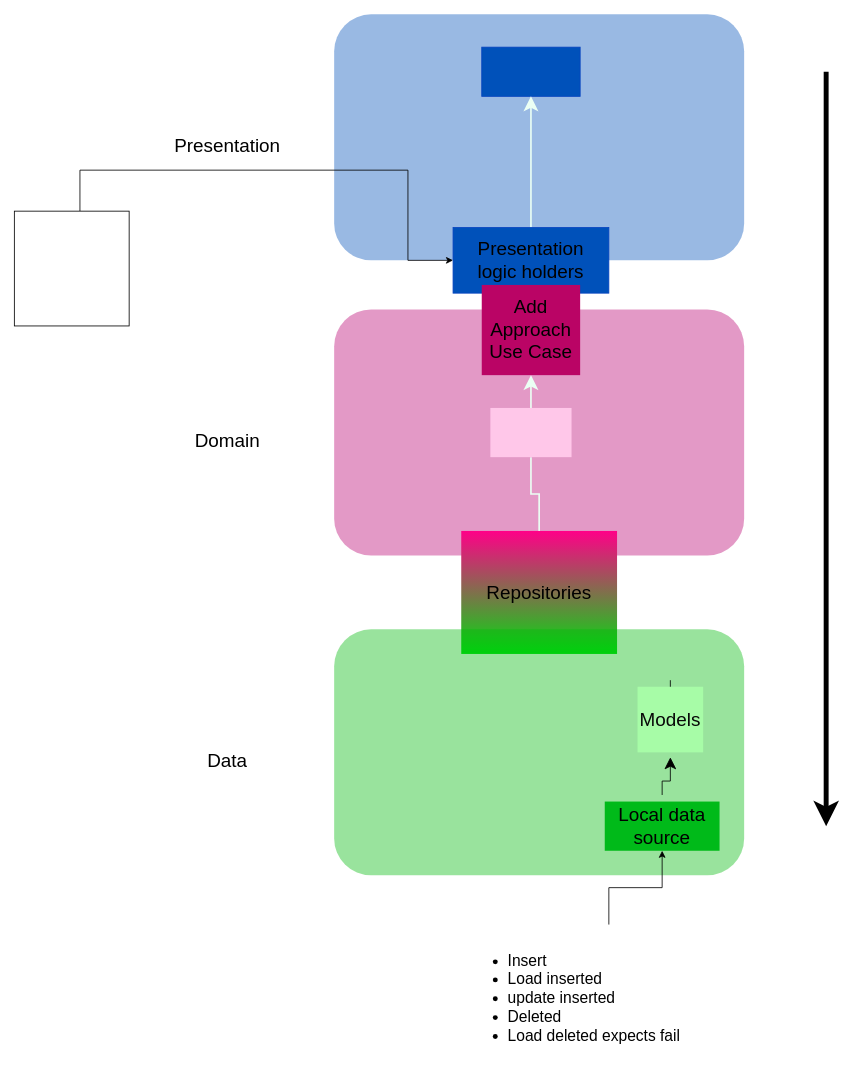
Some shapes in this 854 by 1086 pixel diagram are drawn without their labels. Here are the shapes that lost their labels. From the top down, the centre of each, then its label:
At pixel 530 71: "Widgets".
At pixel 71 268: "Qualquer tipo de decisão quanto aos widgets, são feitos aqui".
At pixel 530 432: "Entities".
